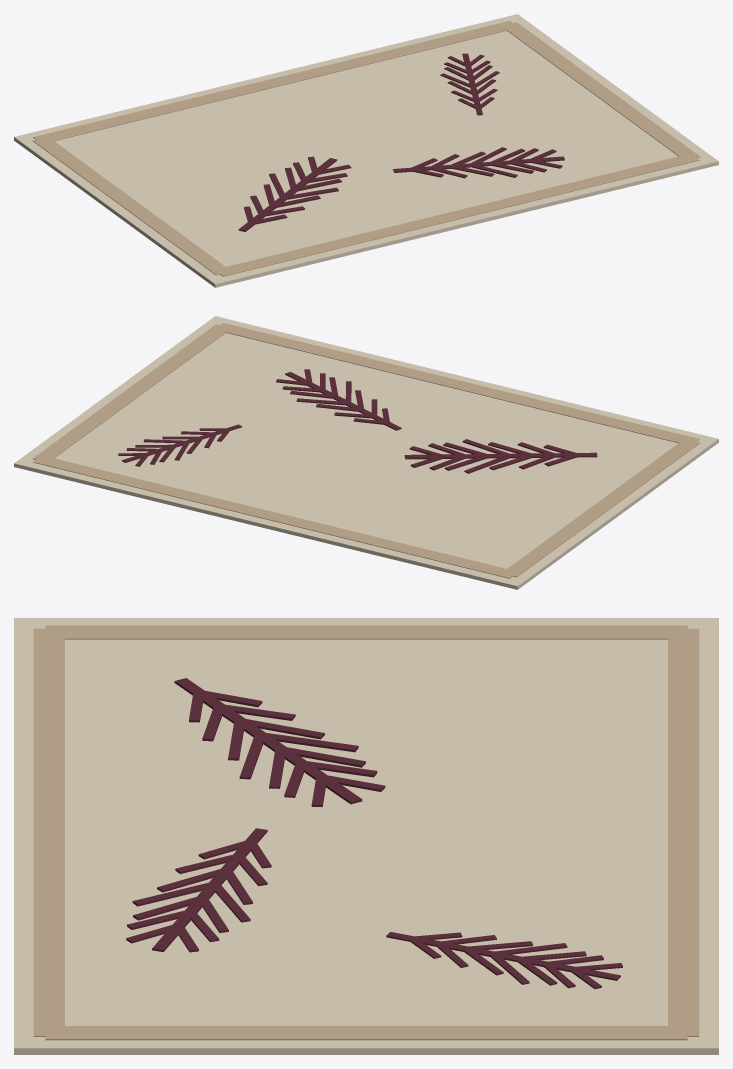
Rendered from rug-feather-01.glb.
3 renders of one model, top to bottom at view 1: azimuth 30°, elevation 25°; view 2: azimuth 150°, elevation 25°; view 3: azimuth 270°, elevation 25°, orthographic. The views are drawn at different scales.
Parts seen in each view (by area): view 1: pile, border-b, border-a, border-c, border-d, feather-shaft (×2); view 2: pile, border-a, border-b, border-d, border-c, feather-shaft (×3); view 3: pile, border-b, border-a, border-d, border-c, feather-shaft (×3).
Boxes of the visible parts, left/top/right/bottom form: pile: left=14, top=14, right=718, bottom=287; border-b: left=214, top=155, right=699, bottom=276; border-a: left=33, top=21, right=518, bottom=141; border-c: left=32, top=138, right=225, bottom=275; border-d: left=501, top=22, right=700, bottom=157; feather-shaft (×2): left=238, top=156, right=564, bottom=231; pile: left=14, top=316, right=718, bottom=589; border-a: left=33, top=457, right=518, bottom=578; border-b: left=215, top=323, right=699, bottom=443; border-d: left=32, top=324, right=231, bottom=459; border-c: left=506, top=440, right=700, bottom=577; feather-shaft (×3): left=122, top=372, right=597, bottom=462; pile: left=14, top=618, right=718, bottom=1054; border-b: left=33, top=628, right=64, bottom=1036; border-a: left=668, top=628, right=699, bottom=1036; border-d: left=45, top=1026, right=687, bottom=1040; border-c: left=45, top=625, right=687, bottom=639; feather-shaft (×3): left=152, top=678, right=620, bottom=980.
Size of the model in its own units: 2.6 by 0.024 by 1.8.
